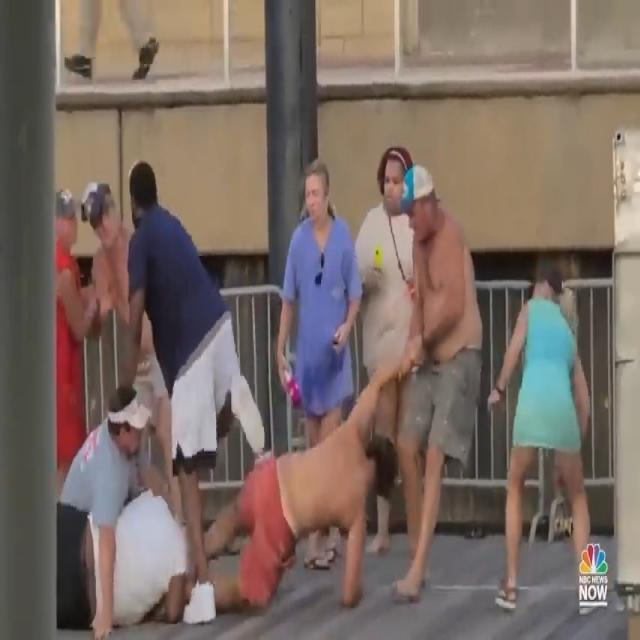fight: (55, 124, 489, 640)
non-fight: (479, 221, 609, 617), (271, 150, 360, 419)
